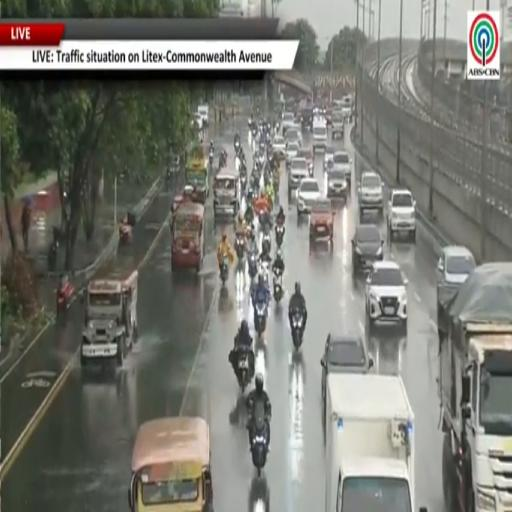car: (321, 333, 374, 419), (436, 246, 476, 331), (366, 261, 407, 329), (352, 224, 384, 273), (387, 189, 416, 243), (437, 246, 476, 285), (309, 198, 334, 248), (358, 171, 383, 219), (297, 178, 321, 217), (288, 157, 308, 197), (327, 169, 348, 200), (333, 151, 351, 186), (313, 119, 327, 152), (297, 149, 314, 175), (285, 125, 302, 147), (332, 109, 344, 139), (286, 143, 300, 168), (282, 111, 294, 136), (301, 106, 313, 131), (341, 95, 353, 119), (197, 104, 209, 127), (324, 146, 335, 170), (273, 136, 285, 157), (192, 112, 203, 130)
jeepney: (128, 418, 213, 511), (81, 269, 137, 365), (171, 202, 205, 271), (213, 170, 239, 217), (186, 158, 209, 203)
motorcycle: (252, 405, 268, 477), (236, 348, 254, 392), (57, 280, 74, 316), (291, 311, 303, 349), (254, 302, 267, 335), (47, 241, 59, 272), (273, 269, 283, 302), (235, 234, 245, 261), (248, 251, 257, 279), (221, 255, 229, 286), (260, 261, 269, 287), (275, 224, 284, 248), (262, 232, 271, 253), (240, 170, 247, 191), (258, 154, 266, 172), (219, 153, 226, 169), (209, 148, 214, 168), (234, 140, 240, 155), (308, 163, 314, 177), (252, 126, 257, 140)
truck: (438, 263, 511, 511), (324, 374, 414, 511)
